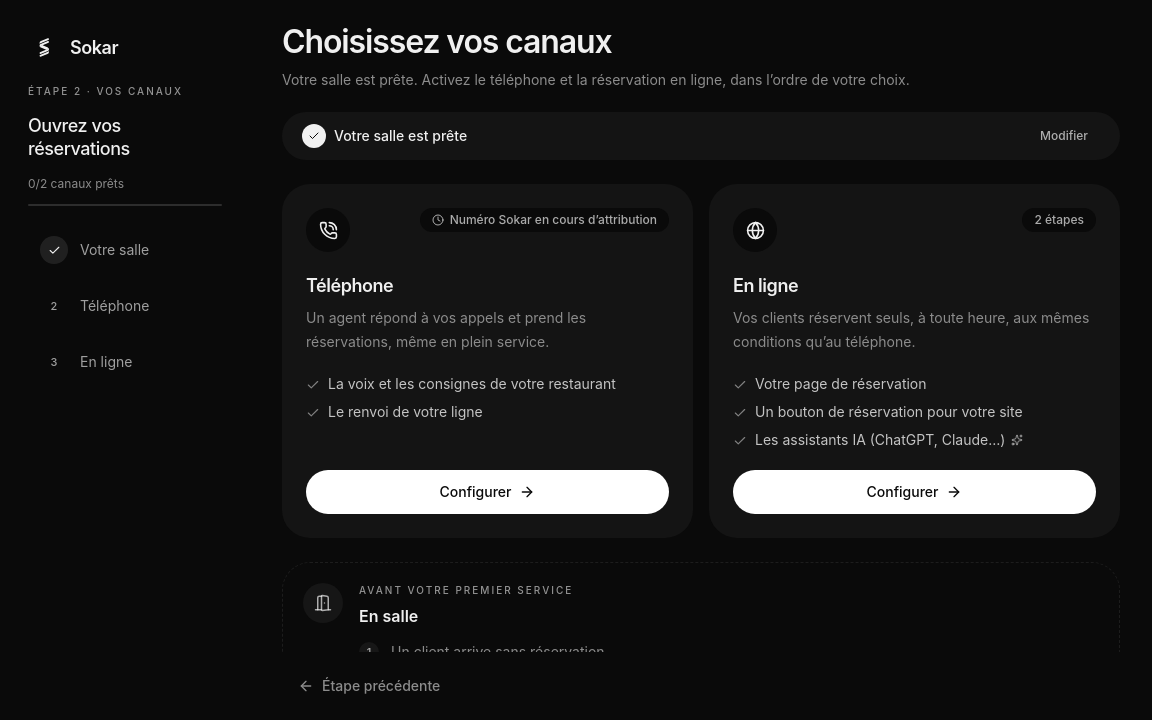
Test: laisse le restaurateur commencer par la réservation en ligne
Click the button with aria-label "Configurer : En ligne".
click(914, 492)  # box [733, 470, 1096, 514]
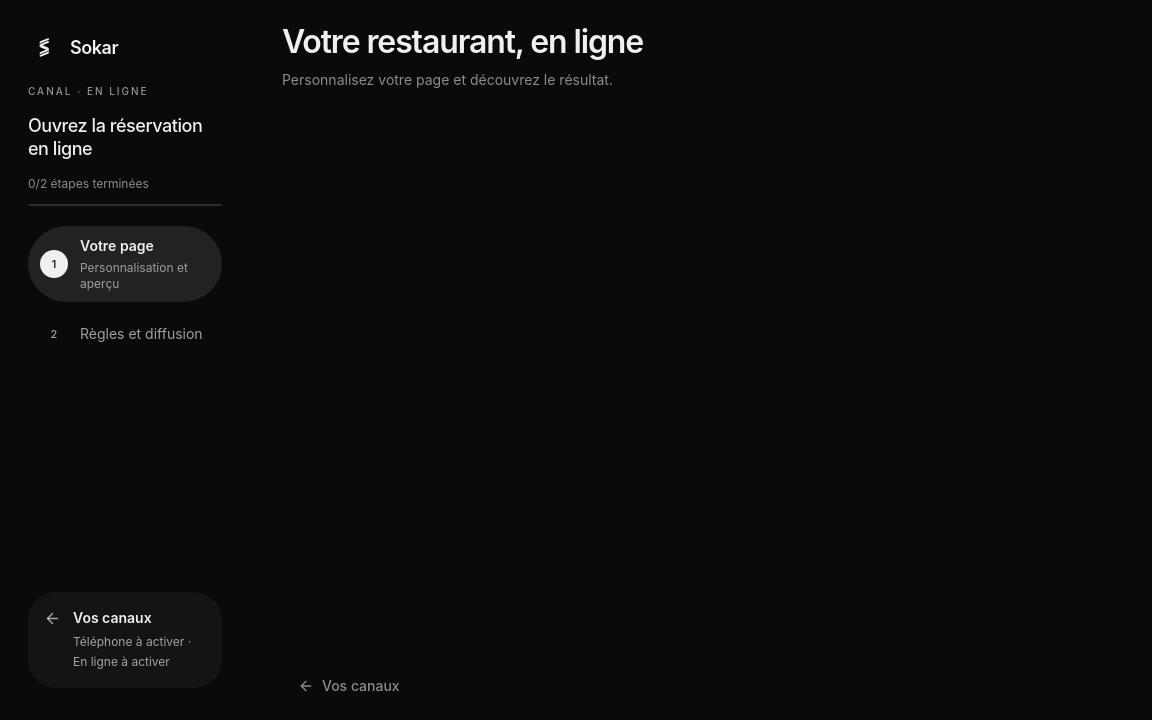
Expected: the button "Vos canaux" is shown, [282, 664, 416, 708]
